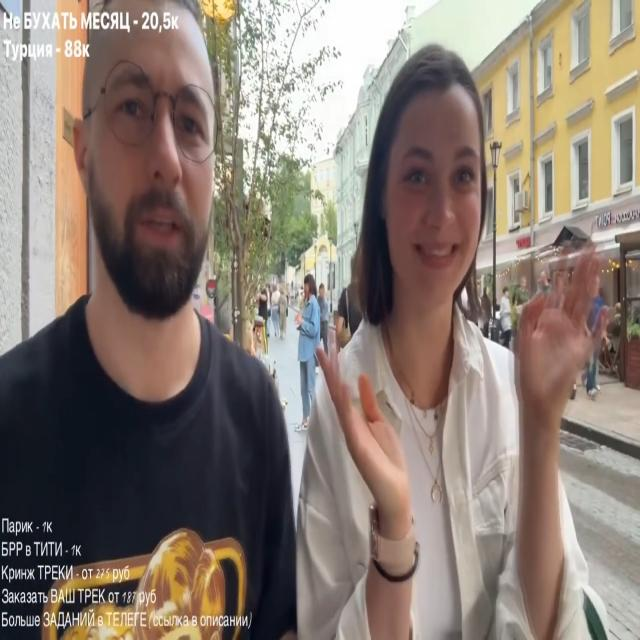Person: (293, 48, 620, 638), (0, 32, 305, 619), (295, 280, 325, 430), (497, 287, 515, 348), (268, 284, 284, 339)
